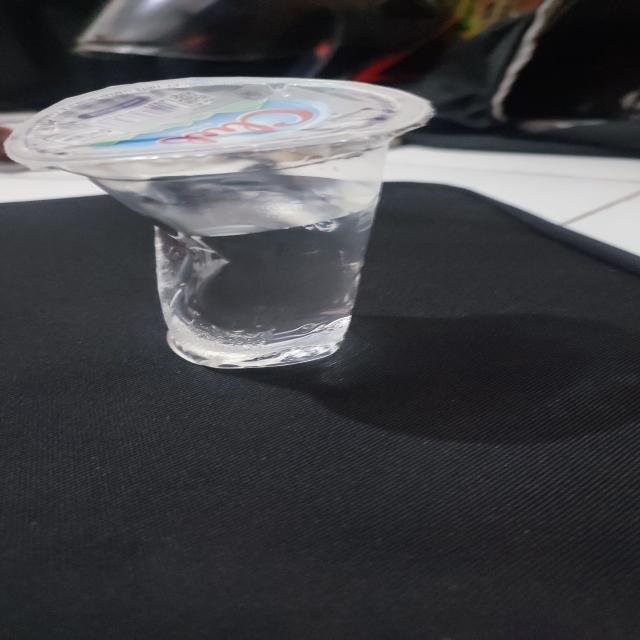air-gelas-rusak: (4, 65, 433, 379)
